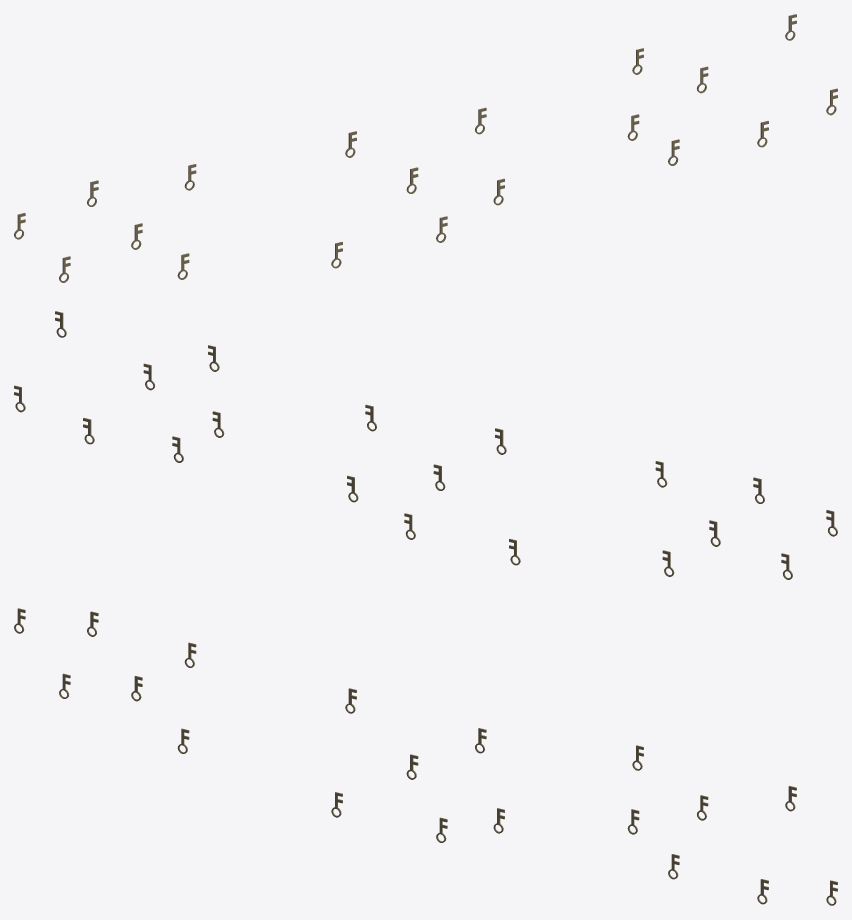
File: Keys.fbx
3 views of the same model, one above another, from view 1: azimuth 30°, elevation 25°; view 2: azimuth 150°, elevation 25°; view 3: azimuth 330°, elevation 25° (orthographic).
Visible parts, largest first — view 1: Keys; view 2: Keys; view 3: Keys.
Part boxes in pixels (x1,y1,x2,y2): Keys: (14, 14, 837, 282); Keys: (14, 311, 837, 579); Keys: (14, 608, 837, 905).
Bounding box in the file's own units: 860 × 145 × 1.29.
